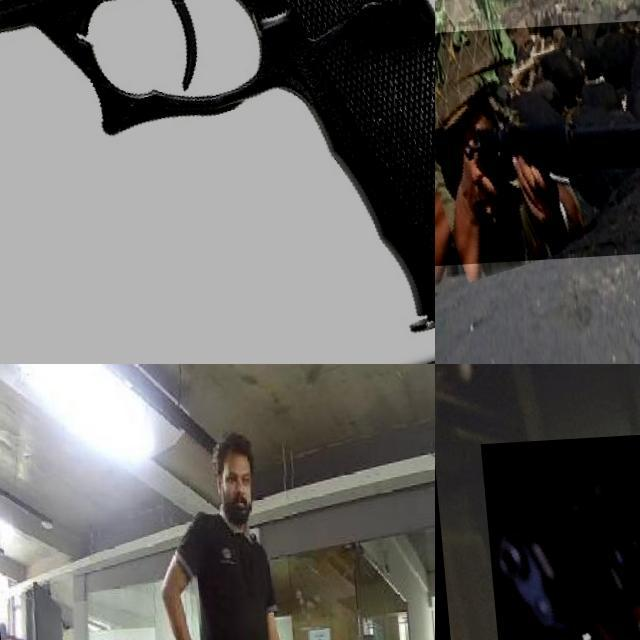gun-knife-thesis - v11 Yolov5 augmented: (0, 0, 435, 364), (435, 19, 640, 267), (478, 433, 640, 640)
